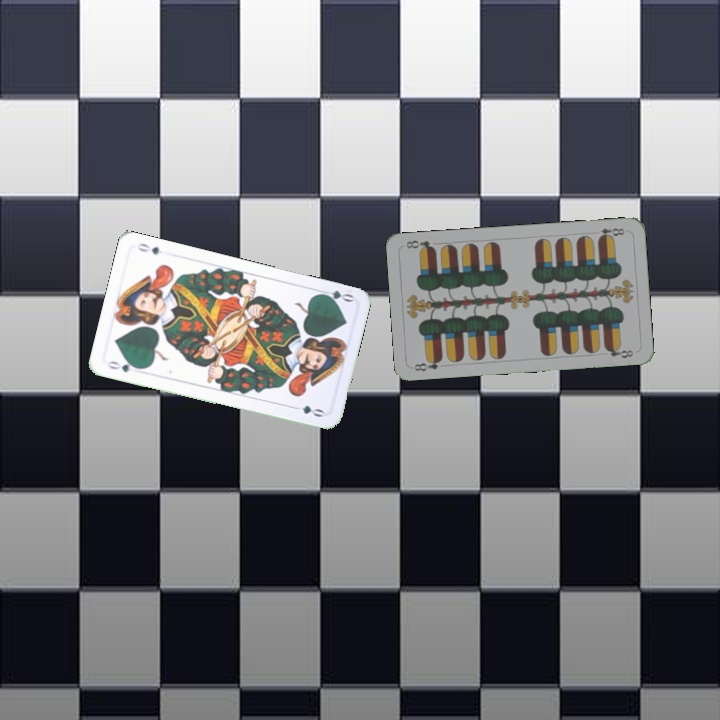E8: (410, 354, 445, 374), (594, 224, 627, 242)
GO: (314, 286, 356, 305), (103, 357, 144, 375)
